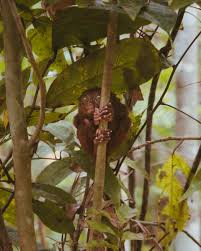tarsier: (76, 85, 131, 157)
